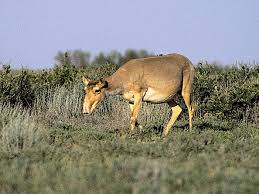saiga: (81, 53, 197, 139)
